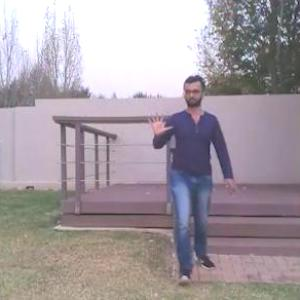follow_hand: (146, 107, 174, 140)
